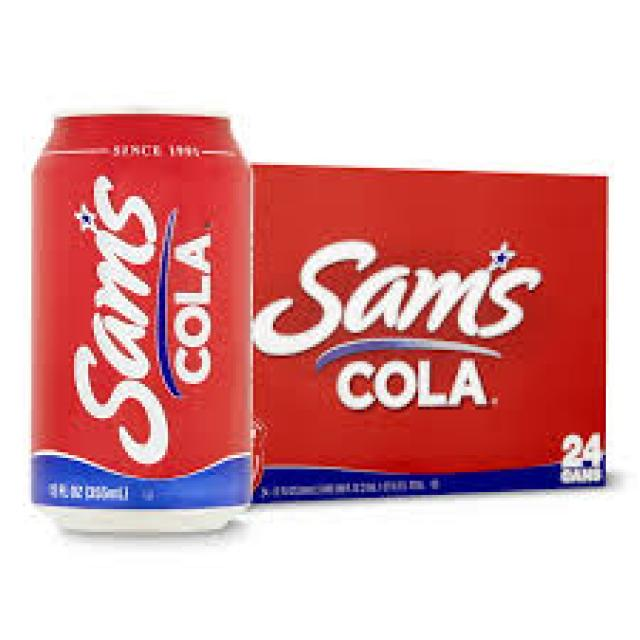Cans: (20, 102, 267, 538)
